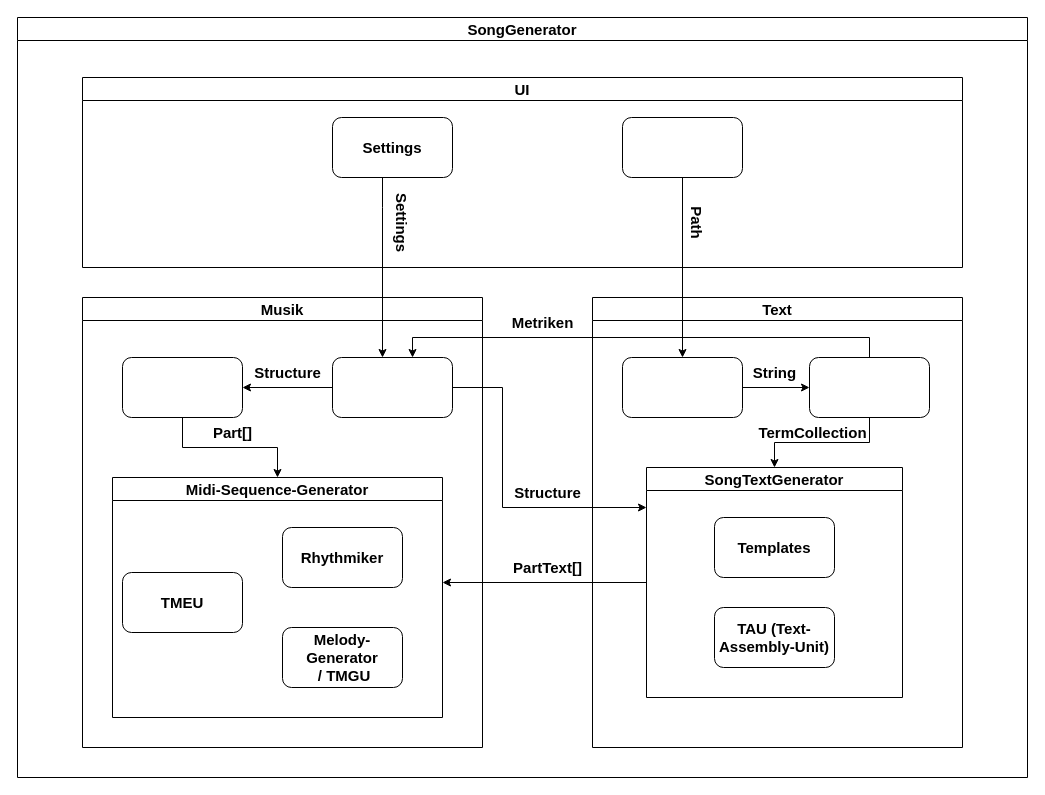
This 1045x795 diagram has some shape labels left out. Each missing label, with the centre of its shape:
FileReader: the point at 682,387
LoadInput: the point at 682,147
Partgenerator: the point at 182,387
Structure-Generator: the point at 392,387
TextAnalyze r: the point at 869,387
